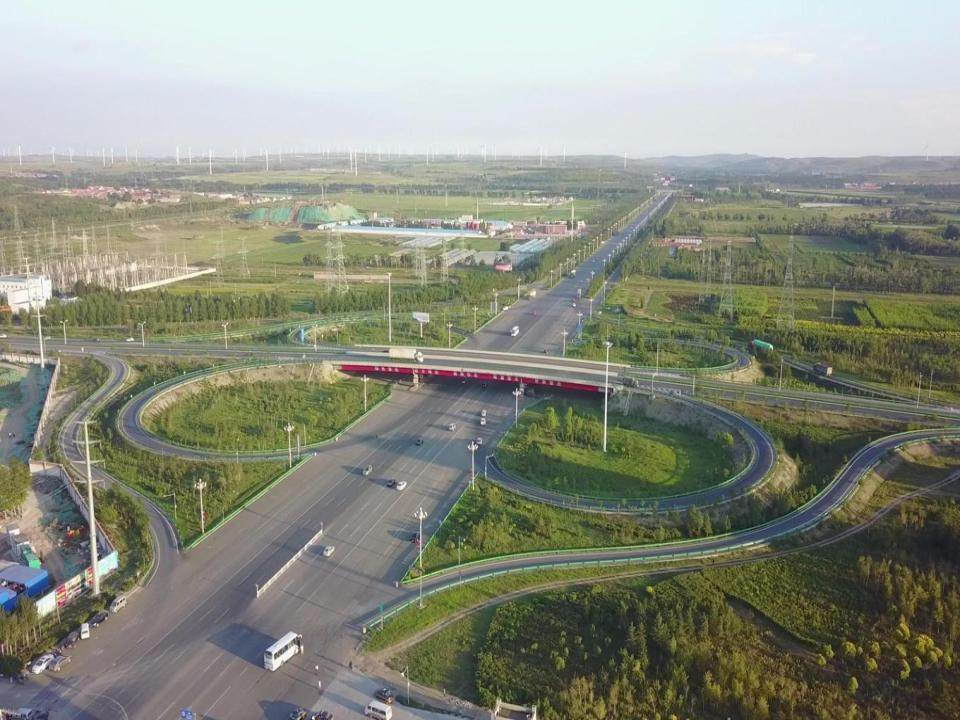bus: (263, 631, 302, 671), (510, 326, 519, 336)
car: (32, 654, 54, 674), (372, 687, 394, 704), (49, 654, 71, 671), (89, 611, 108, 628), (285, 707, 308, 720), (308, 709, 333, 720), (323, 545, 335, 556), (409, 531, 420, 542), (396, 480, 407, 490), (362, 464, 372, 475), (387, 478, 395, 487), (415, 438, 424, 445), (476, 437, 482, 445), (480, 417, 486, 425), (461, 377, 467, 384), (380, 349, 389, 353), (502, 305, 508, 311), (482, 382, 488, 387), (544, 348, 549, 354), (572, 302, 576, 307)
truck: (389, 346, 423, 364), (747, 339, 773, 356), (813, 362, 832, 376), (622, 374, 638, 388), (526, 291, 535, 301)
van: (364, 700, 392, 720), (110, 594, 126, 614), (10, 708, 34, 720), (65, 632, 79, 648), (80, 622, 90, 640), (526, 386, 534, 398), (448, 423, 456, 432), (481, 408, 486, 416)
